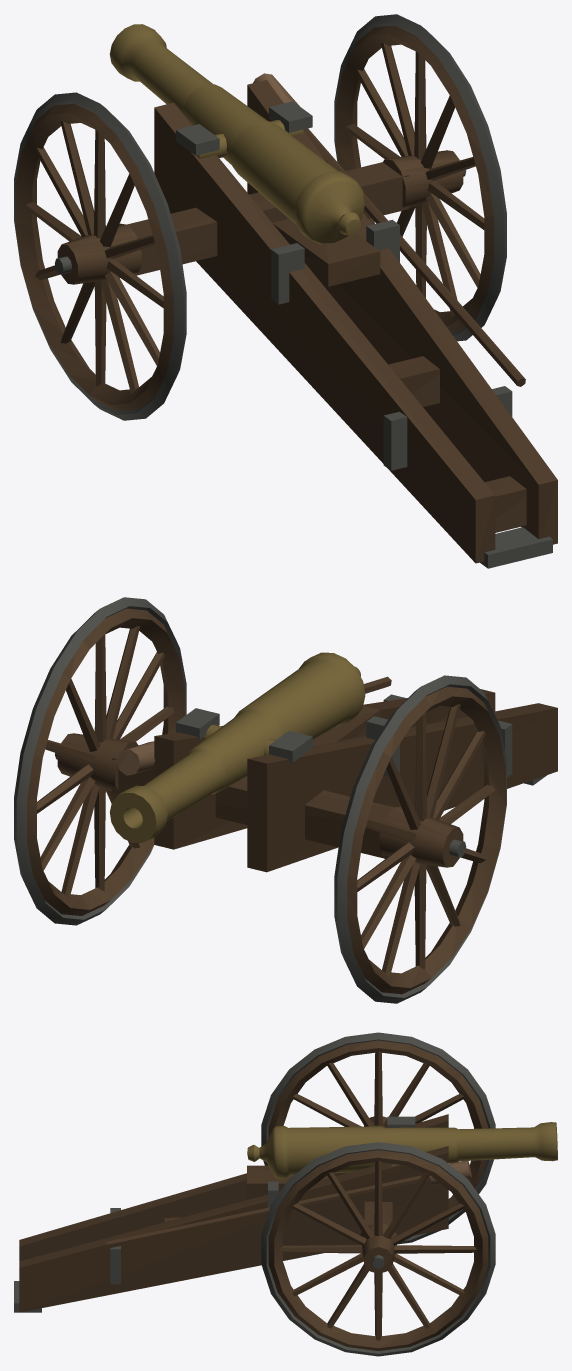
Rendered from hx_pieza_artilleria.glb.
The picture shows the model from 3 angles, top to bottom: view 1: azimuth 30°, elevation 25°; view 2: azimuth 150°, elevation 25°; view 3: azimuth 270°, elevation 25°; orthographic projection. The views are drawn at different scales.
Parts seen in each view (by area): view 1: hx_pieza_artilleria_geometry; view 2: hx_pieza_artilleria_geometry; view 3: hx_pieza_artilleria_geometry.
Part boxes in pixels (bbox=[...]): hx_pieza_artilleria_geometry: bbox=[14, 14, 557, 568]; hx_pieza_artilleria_geometry: bbox=[14, 597, 557, 1003]; hx_pieza_artilleria_geometry: bbox=[14, 1032, 557, 1356].
Bounding box in the file's own units: 1.86 × 1.35 × 3.1.
